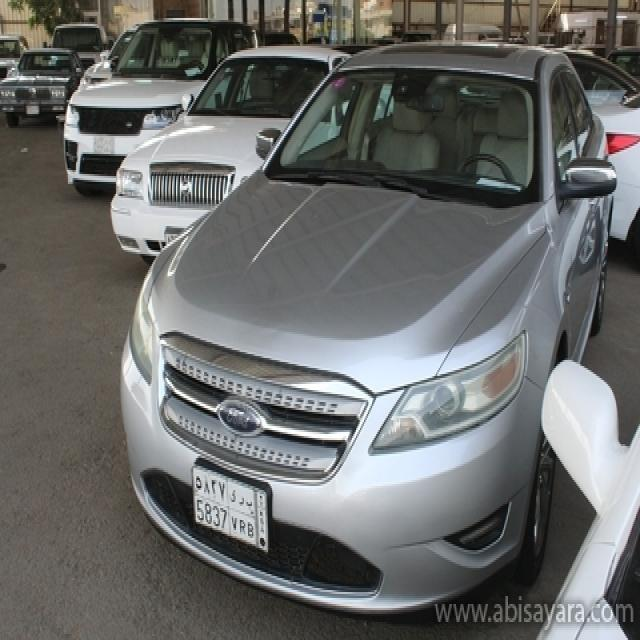license_plate: (190, 462, 270, 556)
